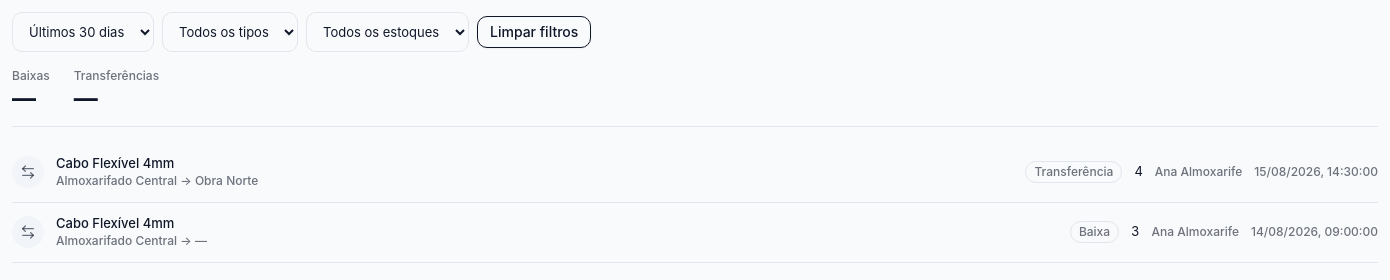
Test: MovimentacoesSection › resposta de indicadores fora de ordem é descartada
Select "Baixa" in the dropdown named "Tipo" at (230, 32), box [162,12,298,52]
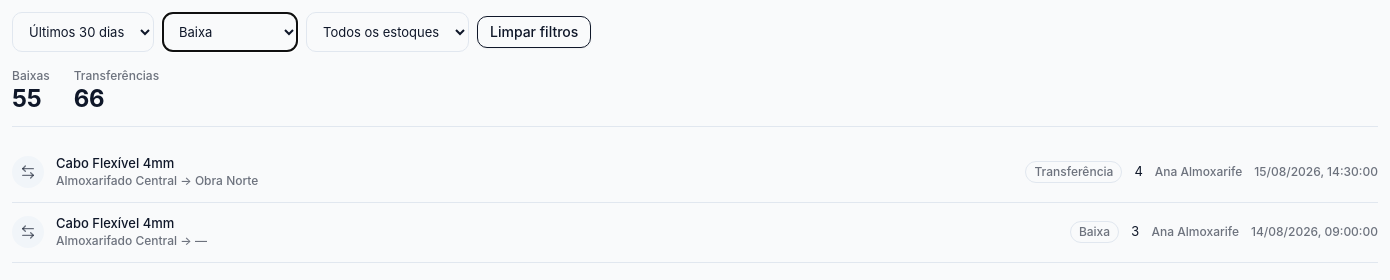
expect the text "55" is shown: met, box [12,84,41,113]
